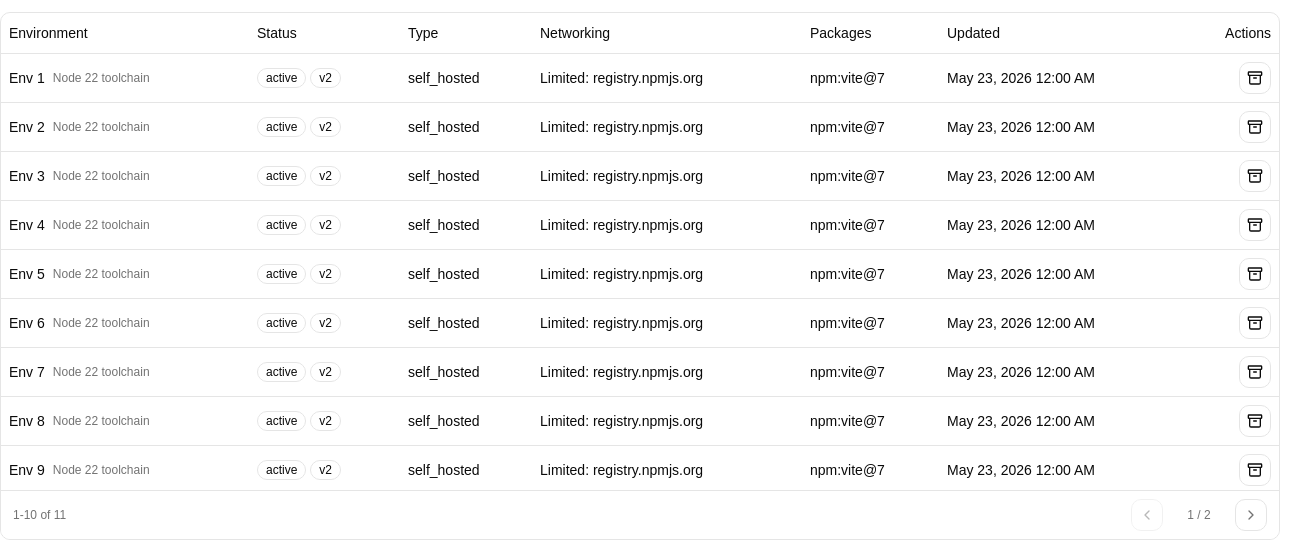
Test: [spec: environments/console-list] EnvironmentsView › paginates correctly with multiple environments
expect the text "1-10 of 11" is shown: met, box [13,507,66,523]
Click the button named "Next page": (1251, 515) [1235,499,1267,531]
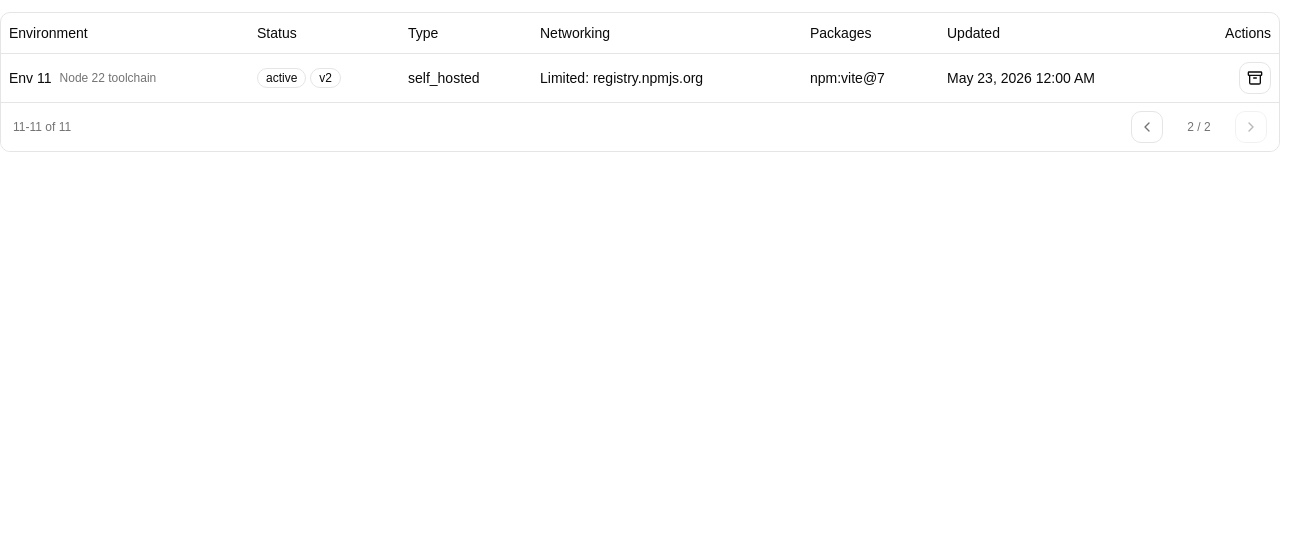
expect the text "11-11 of 11" is shown: met, box [13,118,71,134]
